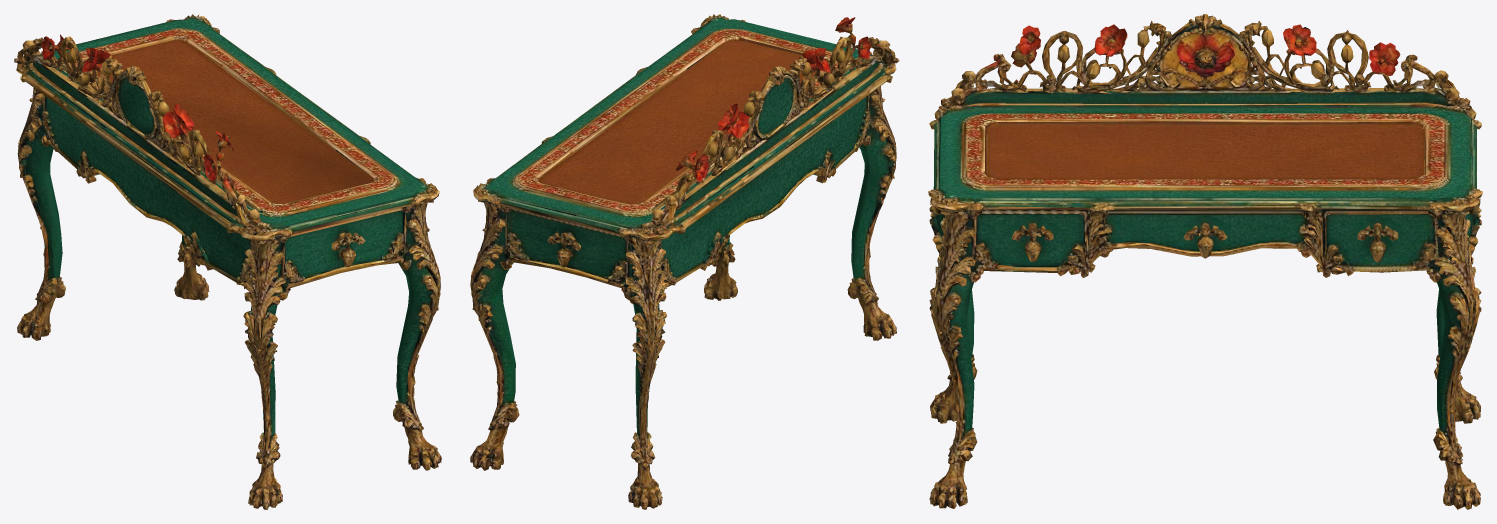
File: MO-07_writing_desk_game.glb
3 views of the same model, side by side, from view 1: azimuth 30°, elevation 25°; view 2: azimuth 150°, elevation 25°; view 3: azimuth 270°, elevation 25° (orthographic). The views are drawn at different scales.
Visible parts, largest first — view 1: MO-07_writing_desk; view 2: MO-07_writing_desk; view 3: MO-07_writing_desk.
Boxes of the visible parts, <box> form: MO-07_writing_desk: <box>14,14,441,509</box>; MO-07_writing_desk: <box>470,14,899,509</box>; MO-07_writing_desk: <box>928,14,1482,509</box>.
Size of the model in its own units: 0.4516 by 0.76 by 0.9665.
1 material, 1 textured.
